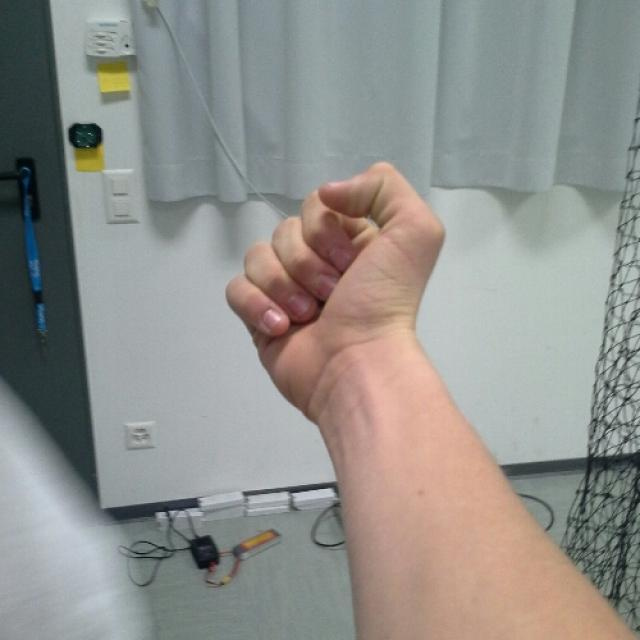rock: (226, 160, 449, 378)
